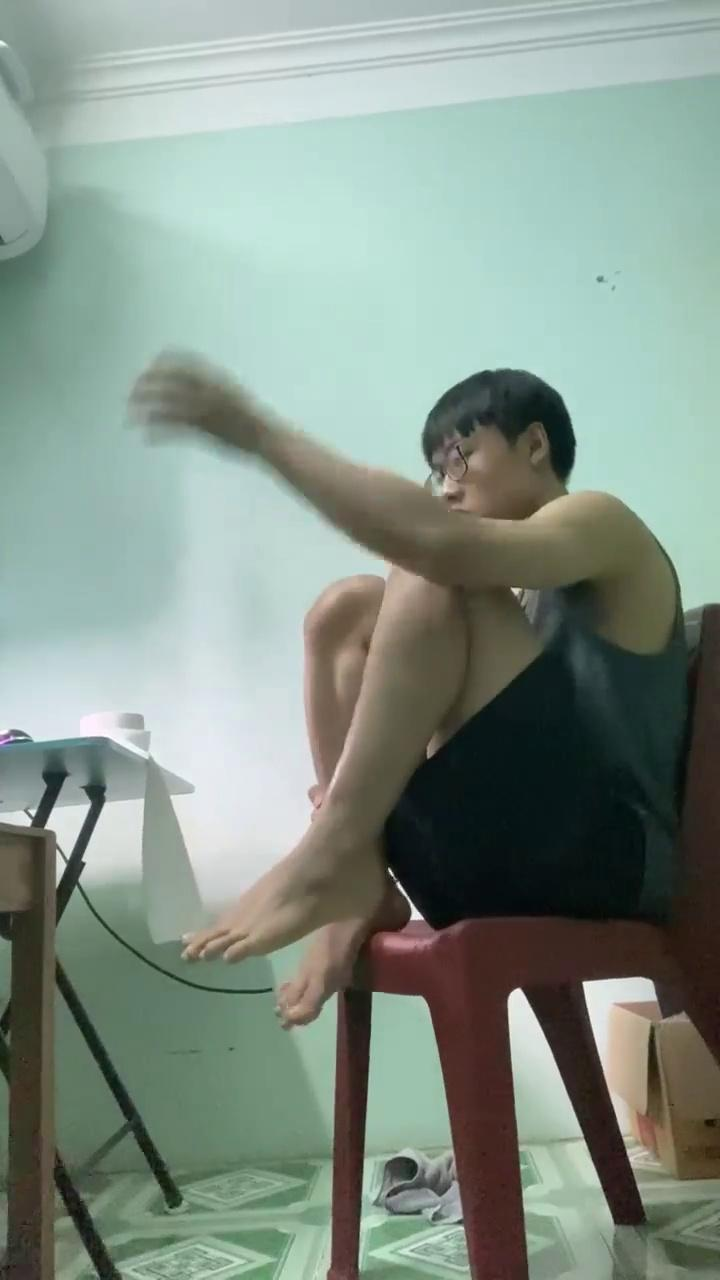BadPosture: (232, 575, 605, 953)
